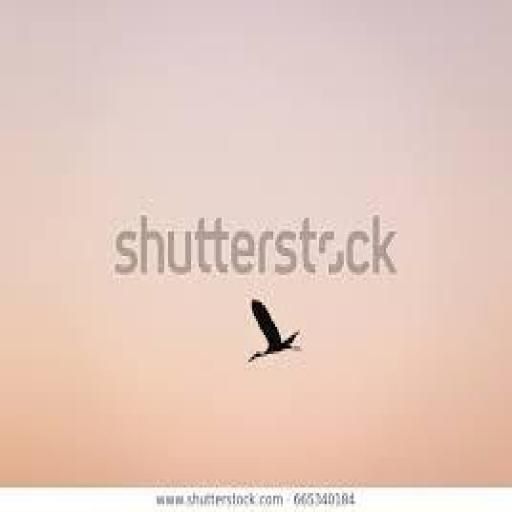birds: (246, 296, 307, 371)
